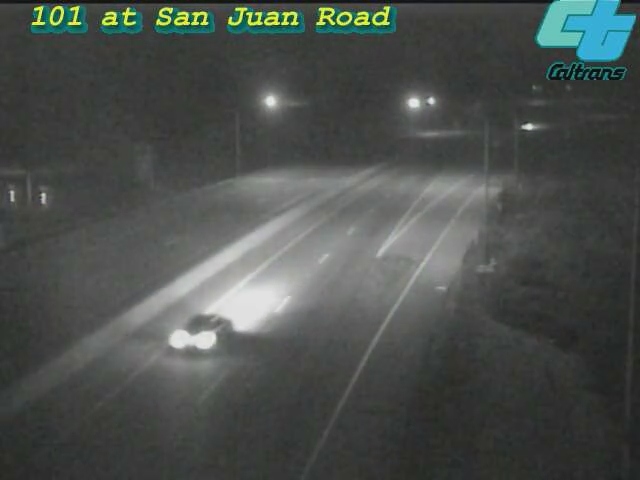vehicle: (142, 279, 252, 389), (502, 101, 552, 151)
